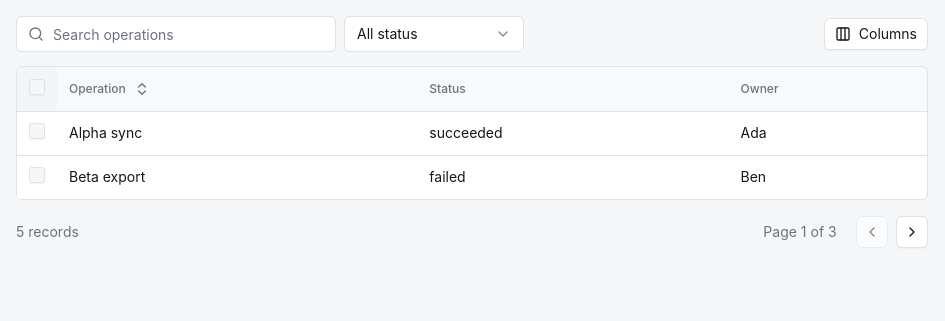
DataTable › selects visible rows and exposes bulk actions
This screenshot has width=945, height=321.
Step 1. Click the checkbox named "Select all visible rows" → (37, 87), box [29, 79, 45, 95]
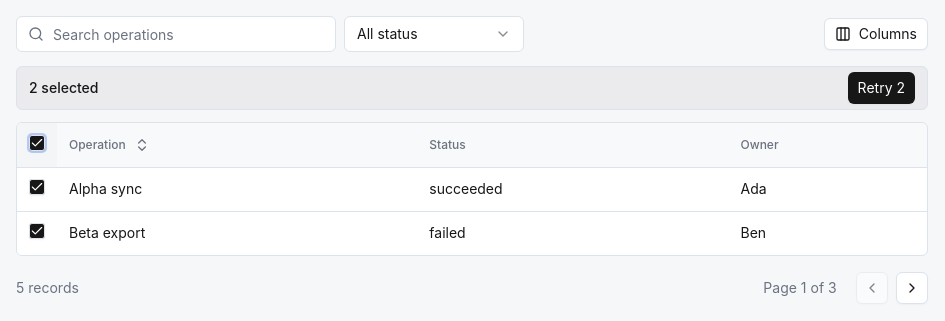
Expected: the text "2 selected" is shown, [29, 78, 98, 98]
Expected: the button "Retry 2" is shown, [848, 72, 915, 104]
Step 2. Click the checkbox named "Select row" next to "Alpha sync" → (37, 187), box [29, 179, 45, 195]
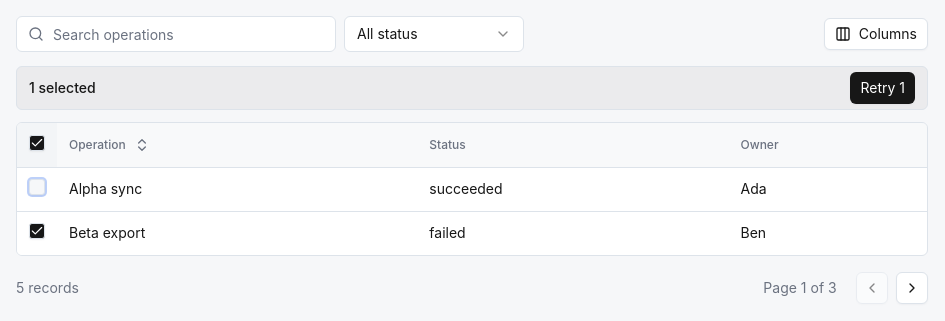
Expected: the text "1 selected" is shown, [29, 78, 96, 98]
